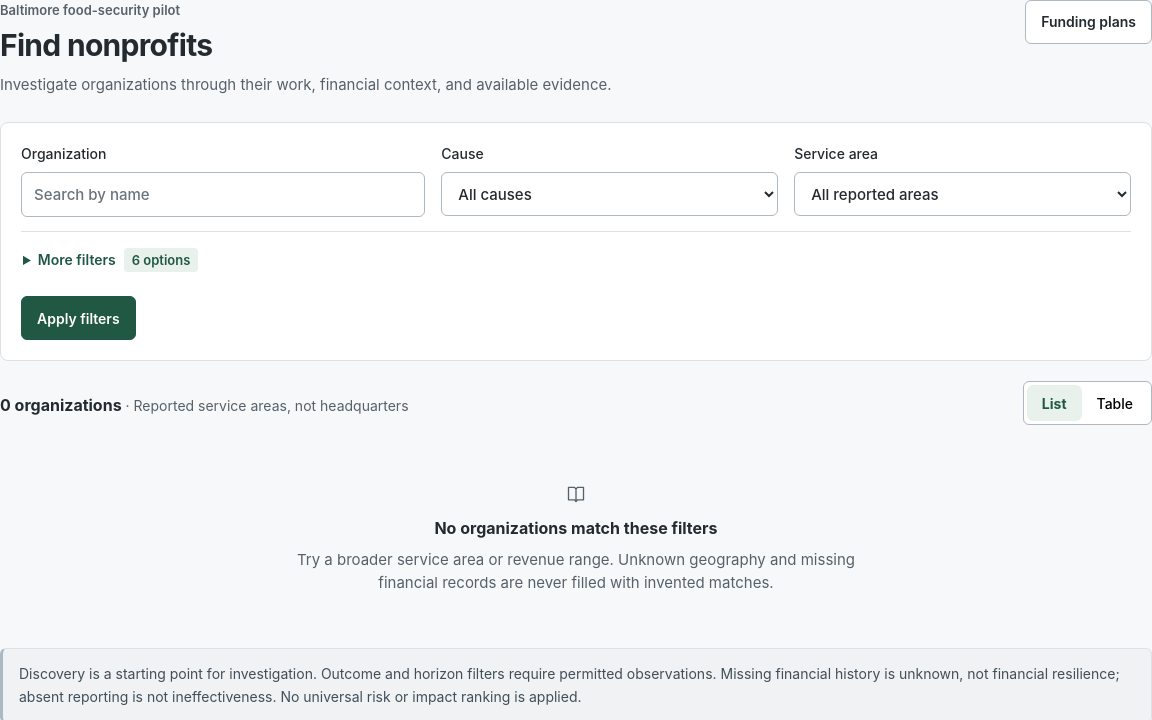
Discovery presentation preserves filter transport › opens an invalid money field, preserves values, and does not navigate
Expected: the heading "No organizations match these filters" is shown, [434,518,718,538]
In the field labelled "Organization": point(223, 195) [21,172,425,217], type "Keep this search"
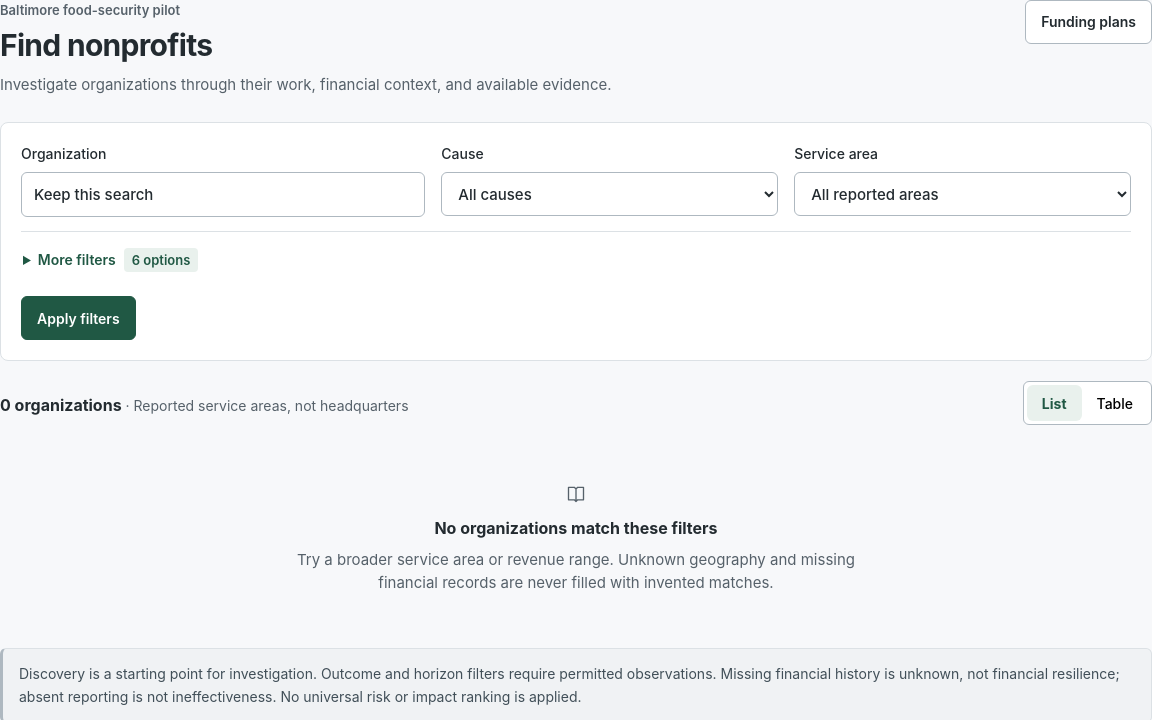
Replace the text in the field named "Planning budget (USD)" with "0.001": point(576, 257) [21,231,1131,282]
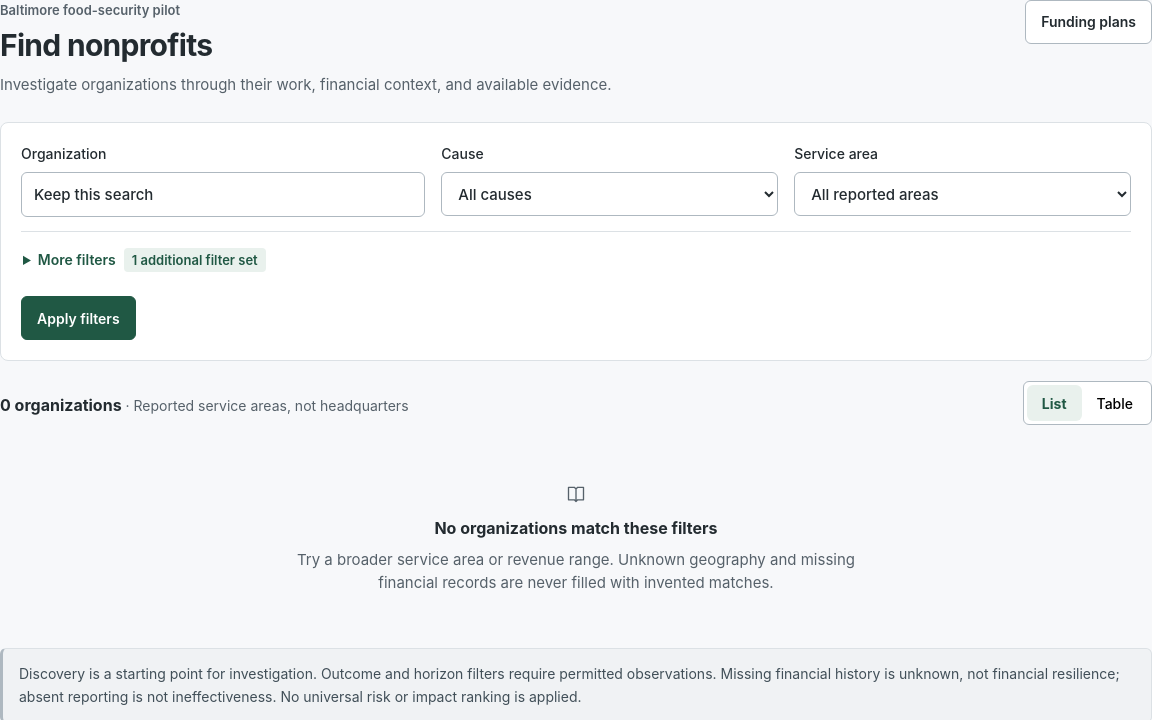
Click the button "Apply filters": point(78, 318) [21,296,136,340]
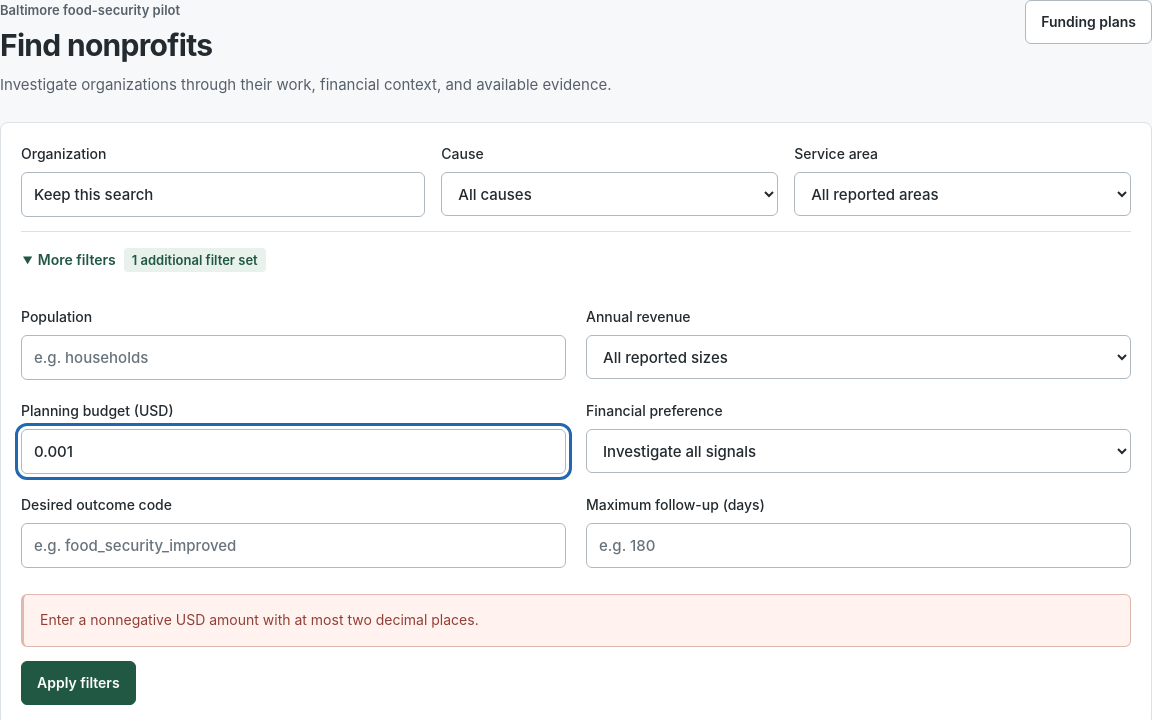
Expected: the message "Enter a nonnegative USD amount with at most two decimal places." is shown, [21,594,1131,647]
